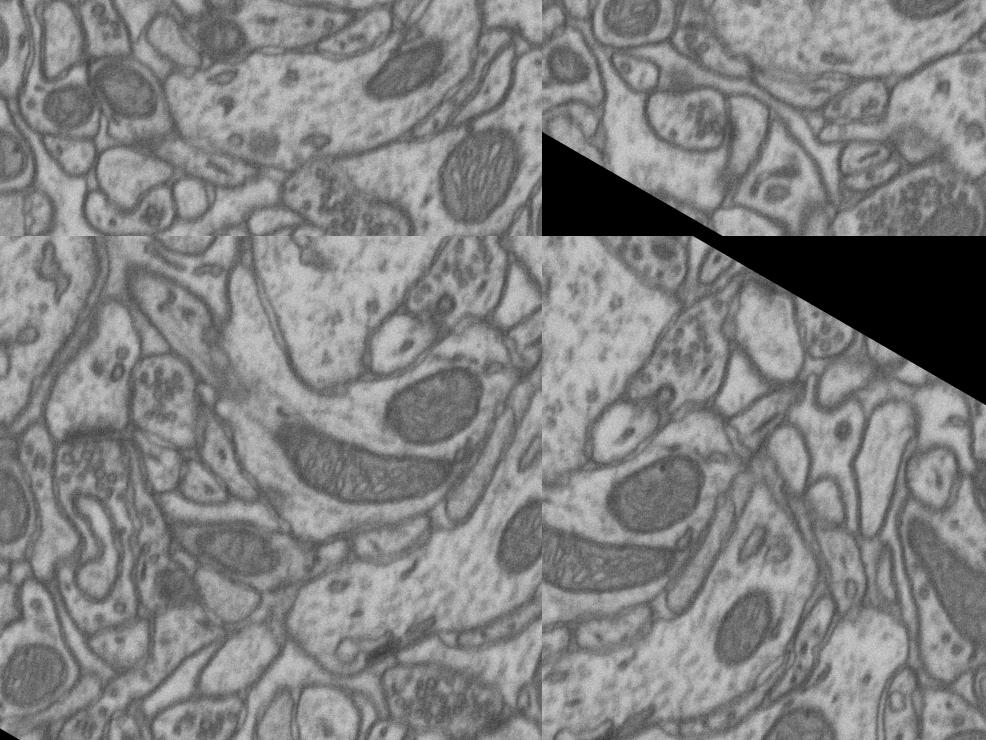mitochondria: (248, 372, 461, 554), (542, 461, 691, 642), (862, 500, 986, 665), (364, 334, 502, 476), (586, 420, 724, 562), (412, 100, 542, 236), (353, 13, 464, 135), (175, 499, 290, 600), (694, 570, 794, 684), (72, 46, 177, 140), (0, 623, 81, 729), (727, 680, 863, 740), (478, 477, 542, 590), (26, 62, 110, 148), (884, 168, 986, 236), (0, 446, 57, 562), (583, 0, 681, 67), (542, 24, 613, 115), (182, 0, 260, 75), (871, 0, 986, 50), (955, 422, 986, 594), (507, 591, 542, 740), (0, 109, 44, 202), (912, 705, 986, 740), (542, 236, 680, 251)
